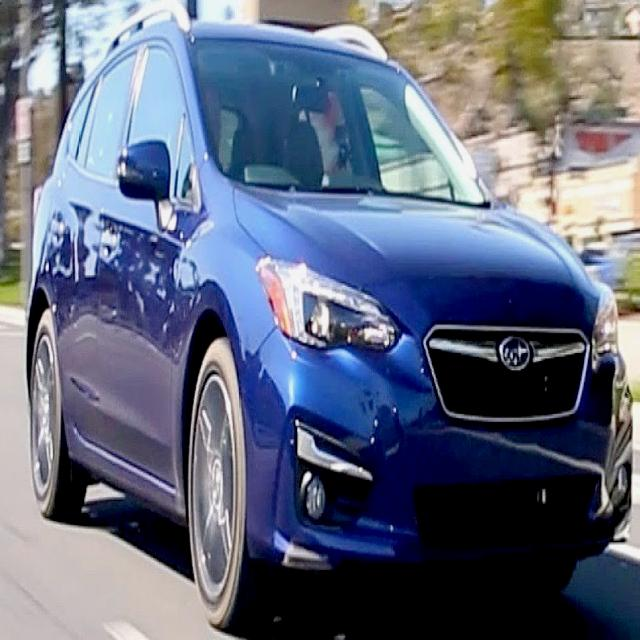blue: (15, 10, 635, 640)
